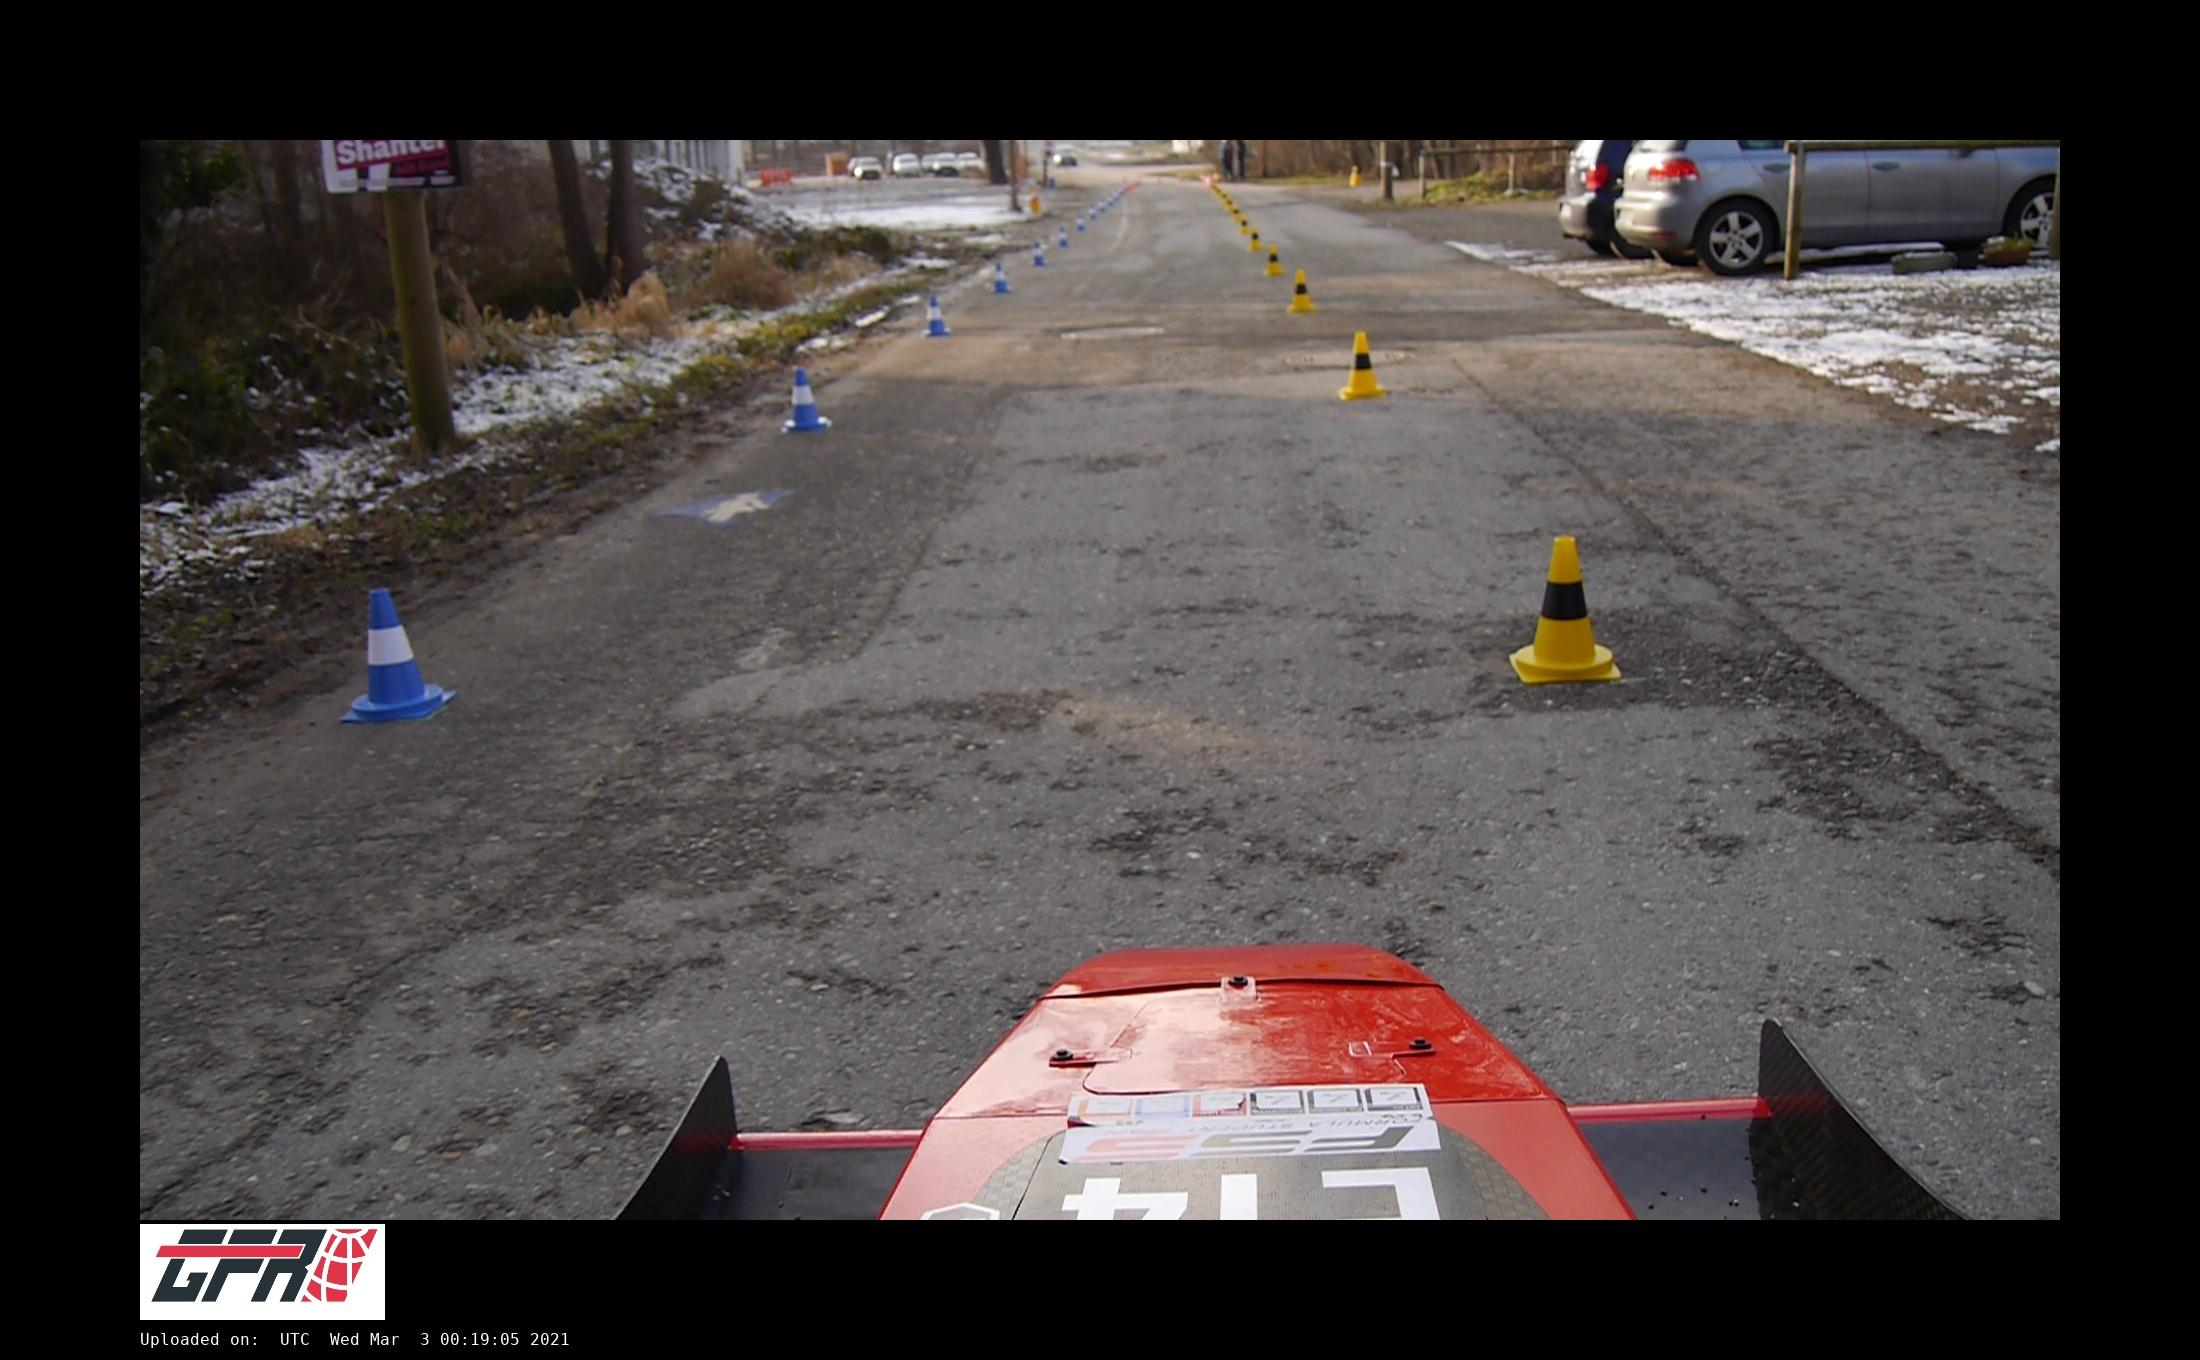blue_cone: (339, 588, 456, 722), (783, 369, 831, 432), (922, 294, 951, 335), (992, 263, 1007, 292), (1032, 241, 1045, 266), (1059, 226, 1069, 245), (1076, 214, 1084, 230)
yellow_cone: (1510, 535, 1622, 682), (1340, 332, 1384, 399), (1289, 269, 1315, 311), (1265, 245, 1282, 275), (1248, 228, 1263, 252), (1237, 215, 1249, 234), (1230, 204, 1240, 222)
